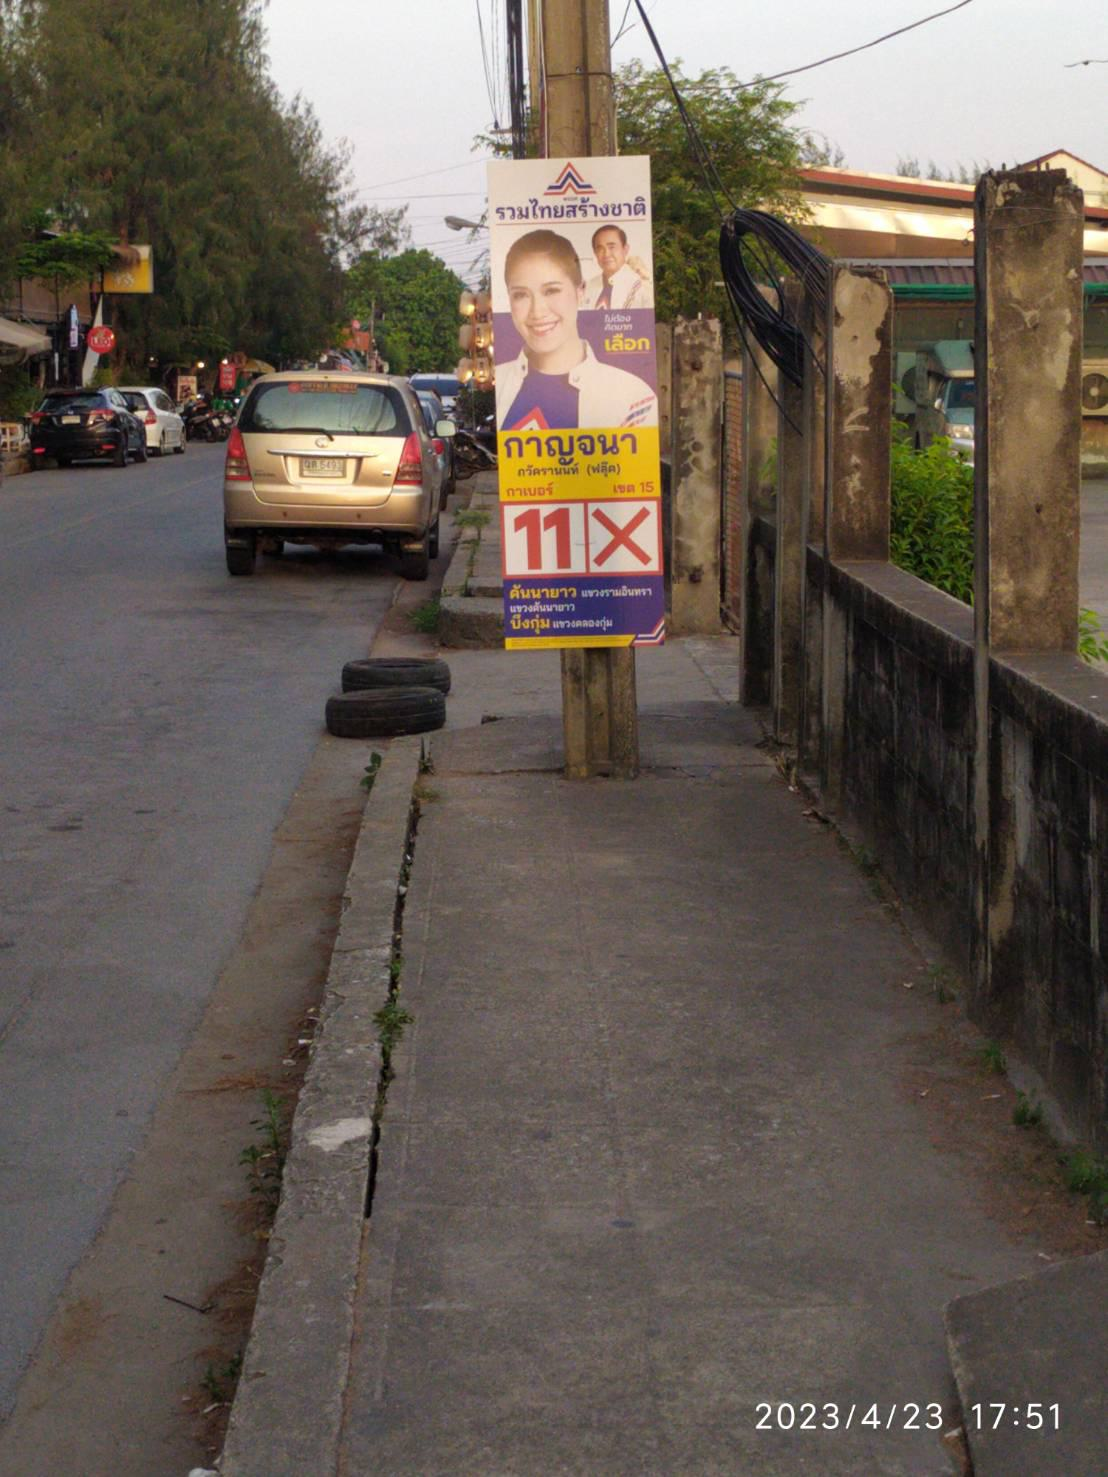Banner: (486, 149, 670, 651)
